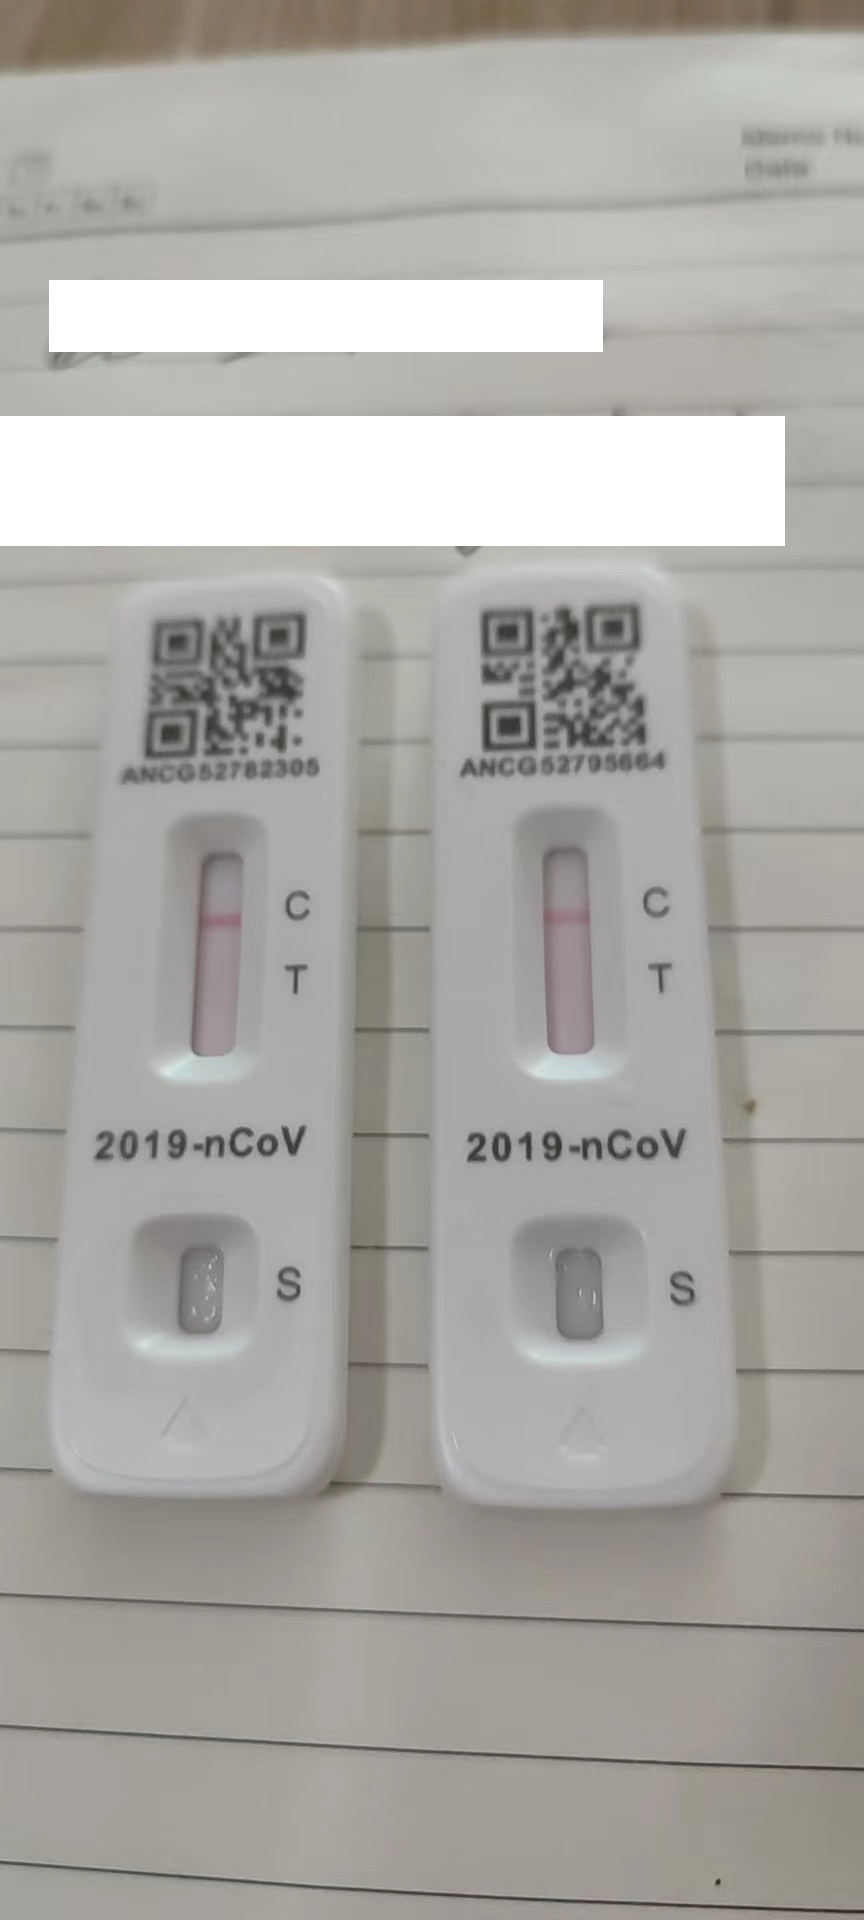negative: (514, 803, 622, 1085), (162, 813, 269, 1090)
